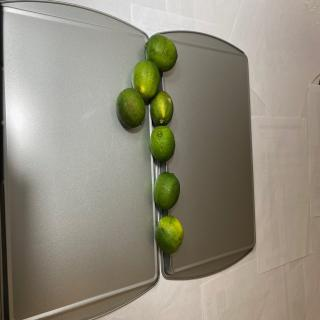Chilli: (116, 32, 184, 254)
Lemon: (144, 33, 178, 73), (116, 88, 146, 128), (131, 59, 160, 100), (154, 215, 184, 254), (153, 171, 180, 210), (150, 125, 176, 162), (150, 90, 173, 126)
